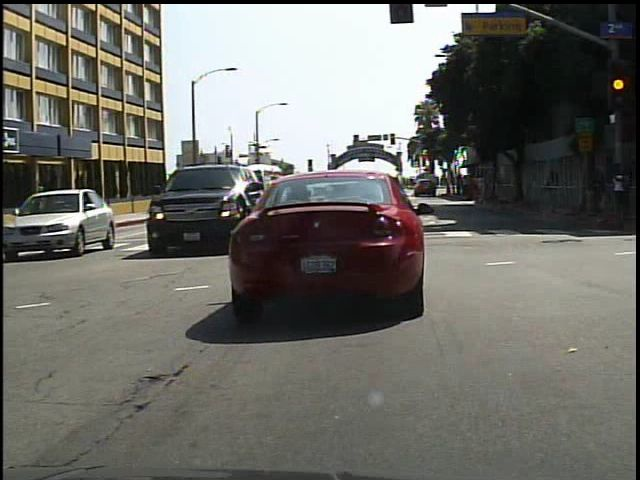person: (35, 183, 57, 234)
